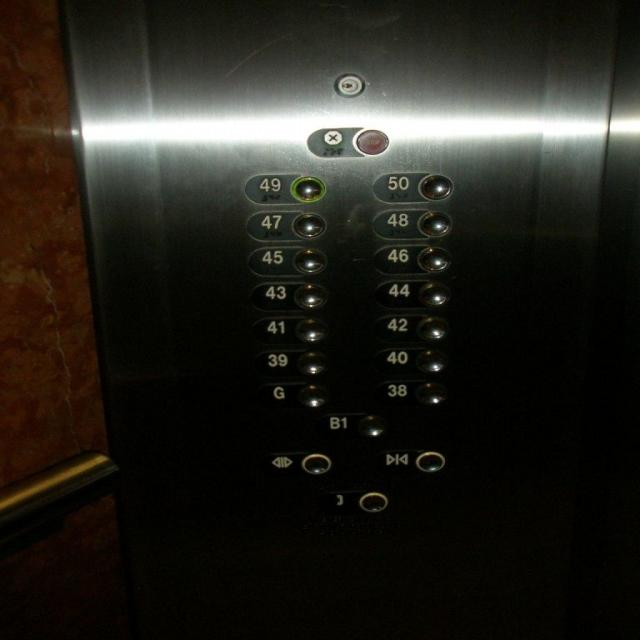38: (374, 376, 457, 408)
39: (249, 348, 332, 378)
40: (374, 342, 456, 376)
41: (247, 314, 331, 346)
42: (374, 312, 456, 342)
43: (247, 280, 331, 312)
44: (374, 277, 455, 311)
45: (244, 245, 332, 278)
46: (374, 242, 454, 275)
47: (244, 208, 332, 242)
48: (374, 208, 454, 240)
49: (242, 171, 326, 205)
50: (373, 170, 455, 203)
B1: (316, 410, 391, 440)
G: (251, 380, 332, 410)
call: (313, 486, 397, 516)
close: (374, 446, 450, 475)
keyhole: (333, 72, 365, 98)
open: (258, 449, 335, 479)
stop: (304, 125, 392, 158)
